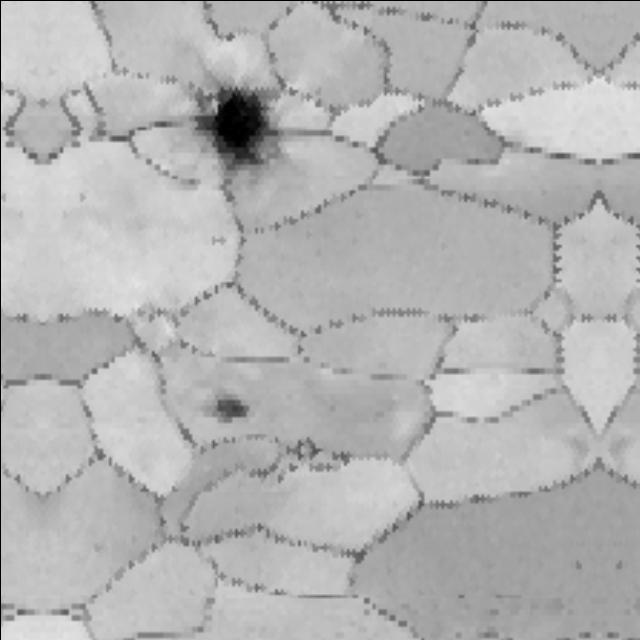good_void: (165, 50, 314, 203), (180, 378, 258, 438), (207, 234, 229, 249)
